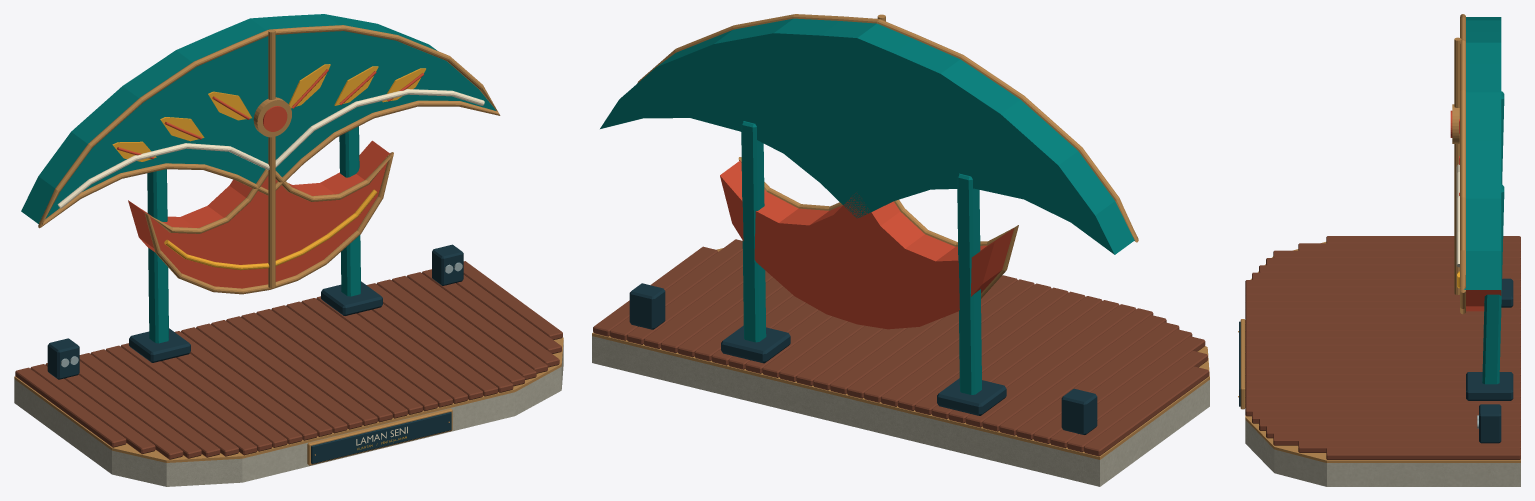
3 renders of one model, left to right at view 1: azimuth 30°, elevation 25°; view 2: azimuth 150°, elevation 25°; view 3: azimuth 270°, elevation 25°, orthographic. The views are drawn at different scales.
Visible parts, largest first — view 1: Oiled stage flooring, Kite resonator, Brass edge binding, Cast stage skirt, Back stays, Brass leaf inlay, Wing bamboo rib, Enamel plaque field, Bronze reveal, Reflector foot, Weatherproof stage sockets, Central spine (+4 smaller); view 2: Kite resonator, Oiled stage flooring, Cast stage skirt, Back stays, Brass edge binding, Reflector foot, Weatherproof stage sockets, Bronze reveal; view 3: Oiled stage flooring, Kite resonator, Cast stage skirt, Back stays, Brass edge binding, Reflector foot, Bronze reveal, Central spine, Weatherproof stage sockets, Beaded plaque rim, Wing bamboo rib, Medallion.
Boxes of the visible parts, x1,y1,x2,y2 form: Oiled stage flooring: (15,261,562,459); Kite resonator: (21,14,496,288); Brass edge binding: (38,25,500,294); Cast stage skirt: (14,343,563,486); Back stays: (147,126,360,343); Brass leaf inlay: (112,64,425,161); Wing bamboo rib: (57,89,484,208); Enamel plaque field: (311,412,451,463); Bronze reveal: (14,337,563,462); Reflector foot: (129,281,382,362); Weatherproof stage sockets: (47,244,463,379); Central spine: (268,29,275,288); Kite resonator: (600,18,1134,329); Oiled stage flooring: (593,239,1209,456); Cast stage skirt: (592,336,1209,486); Back stays: (741,121,981,394); Brass edge binding: (637,14,1138,298); Reflector foot: (721,325,1006,415); Weatherproof stage sockets: (629,283,1097,434); Bronze reveal: (592,248,1209,459); Oiled stage flooring: (1245,236,1520,459); Kite resonator: (1464,17,1501,311); Cast stage skirt: (1245,420,1520,486); Back stays: (1482,91,1504,384); Brass edge binding: (1460,14,1465,314); Reflector foot: (1466,278,1513,400); Bronze reveal: (1245,242,1520,462); Central spine: (1454,37,1461,294); Weatherproof stage sockets: (1479,404,1501,443); Beaded plaque rim: (1240,319,1245,409); Wing bamboo rib: (1456,164,1459,267); Medallion: (1450,104,1459,143).
Size of the model in its own units: 4.22 by 2.98 by 2.26.
Materials: 9 (1 with a texture image).
